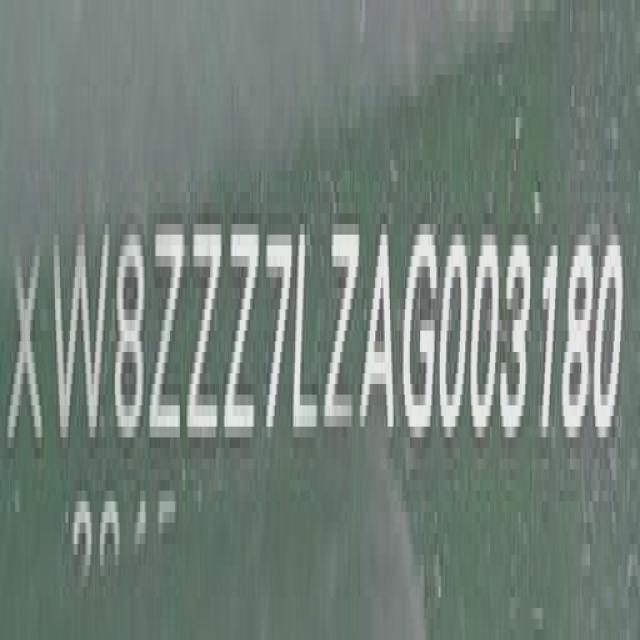0: (438, 228, 469, 444), (470, 229, 501, 442), (596, 232, 626, 445)
1: (539, 237, 563, 446)
3: (502, 233, 533, 447)
7: (262, 222, 292, 446)
8: (116, 222, 146, 452), (562, 236, 592, 448)
A: (364, 221, 398, 450)
G: (402, 218, 438, 445)
L: (292, 221, 320, 455)
W: (50, 223, 108, 457)
X: (9, 236, 44, 464)
Z: (190, 207, 222, 460), (151, 212, 183, 456), (326, 210, 358, 447), (227, 208, 257, 452)
